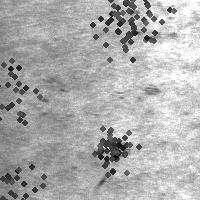rolled-in_scale: (74, 0, 182, 65), (0, 43, 55, 143), (78, 115, 144, 181), (0, 155, 61, 200), (128, 2, 192, 37), (36, 74, 72, 123), (90, 134, 131, 163)
